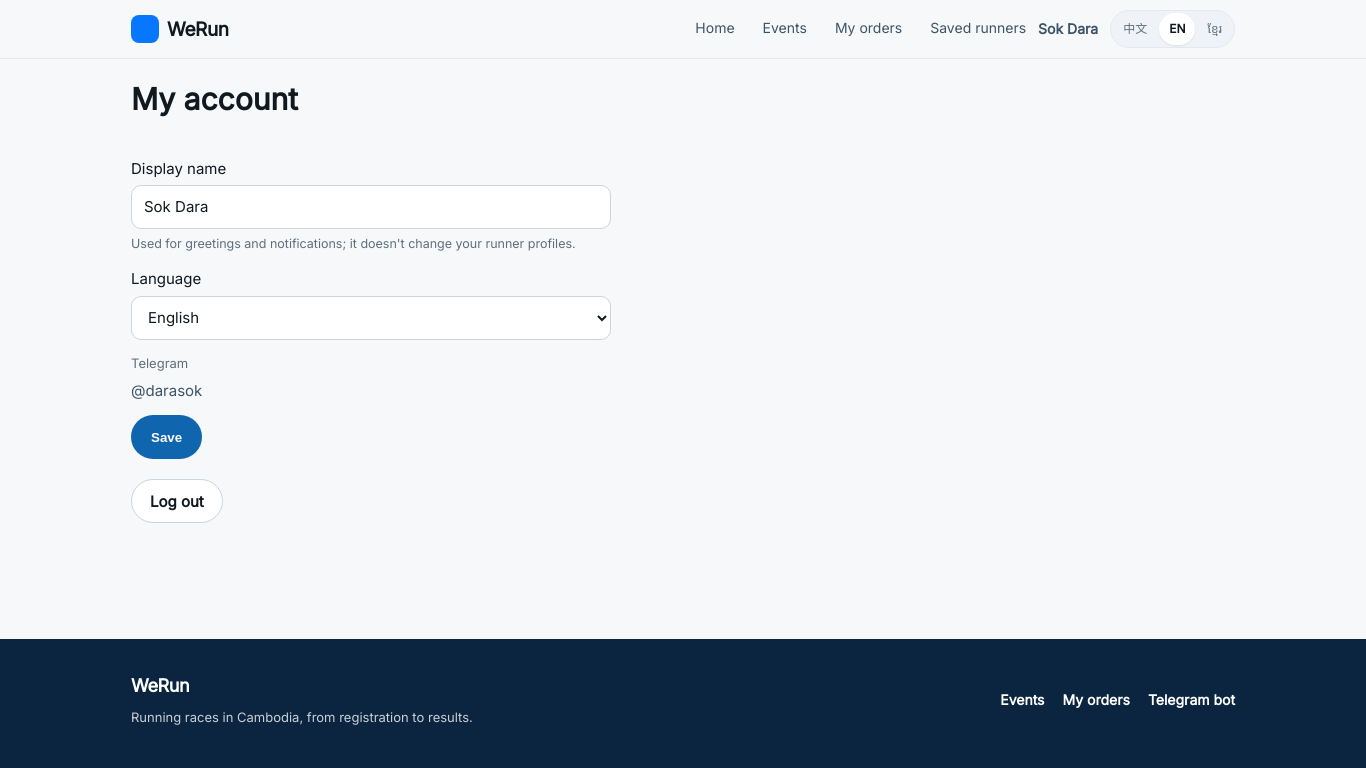
Test: MePage › 切换语言下拉框会立即切换界面语言
Expected: the field with test id "me-display-name" is shown, [131,185,611,229]
Select "ខ្មែរ" in the dropdown with test id "me-locale" at (371, 318), box [131,296,611,340]
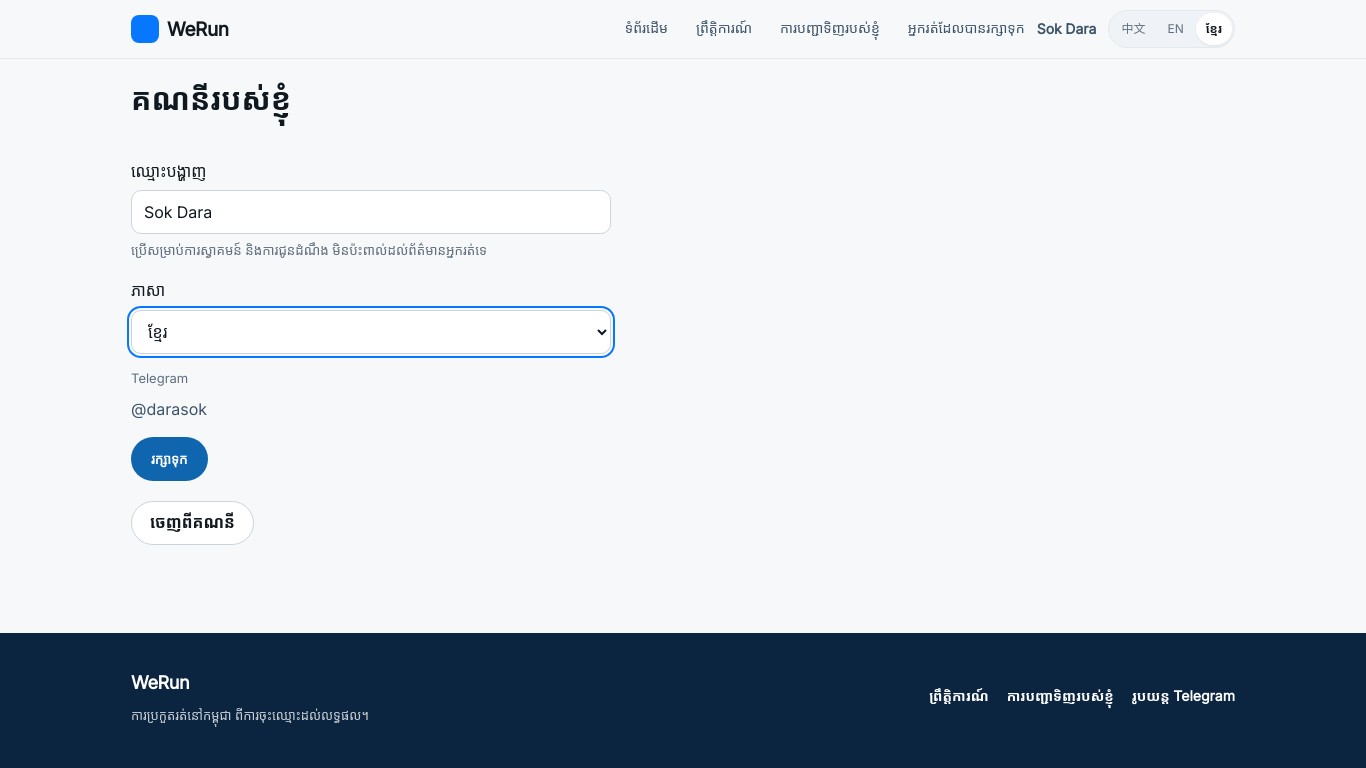
Result: the button with test id "me-save" reads "រក្សាទុក" at [131,437,208,481]
